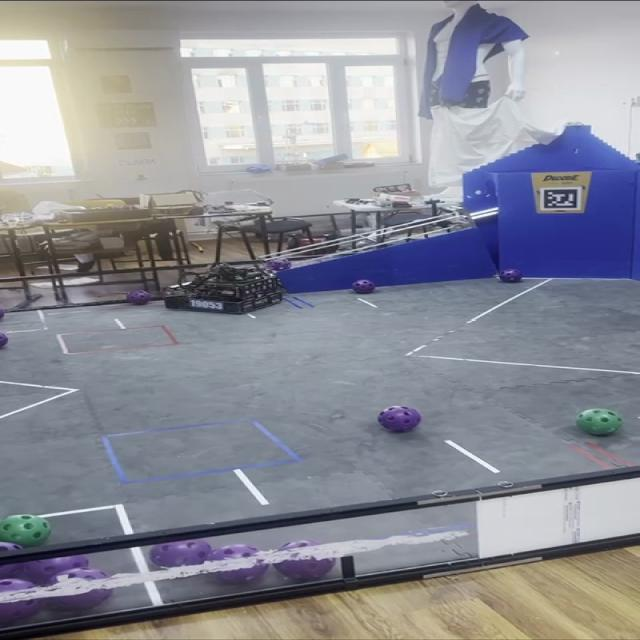artifact_green: (0, 515, 51, 547), (576, 409, 622, 435)
artifact_purple: (22, 556, 89, 584), (150, 540, 211, 568), (275, 557, 335, 580), (212, 559, 267, 584), (50, 589, 111, 610), (378, 407, 421, 432), (0, 599, 41, 624), (0, 564, 23, 579), (127, 291, 151, 305), (267, 258, 291, 272), (499, 269, 522, 283), (352, 280, 375, 293), (0, 333, 9, 349), (0, 309, 5, 320)
